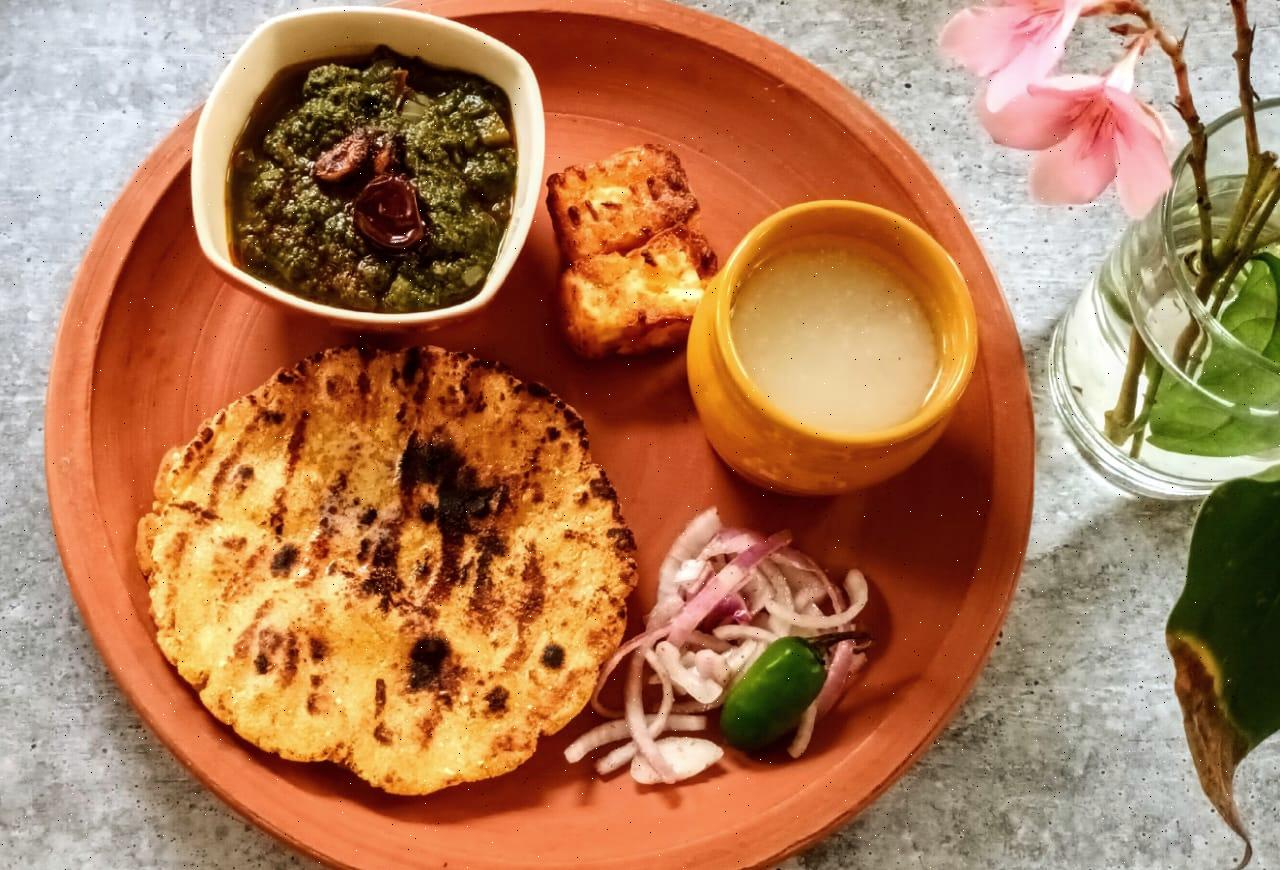saag: (240, 47, 500, 305)
